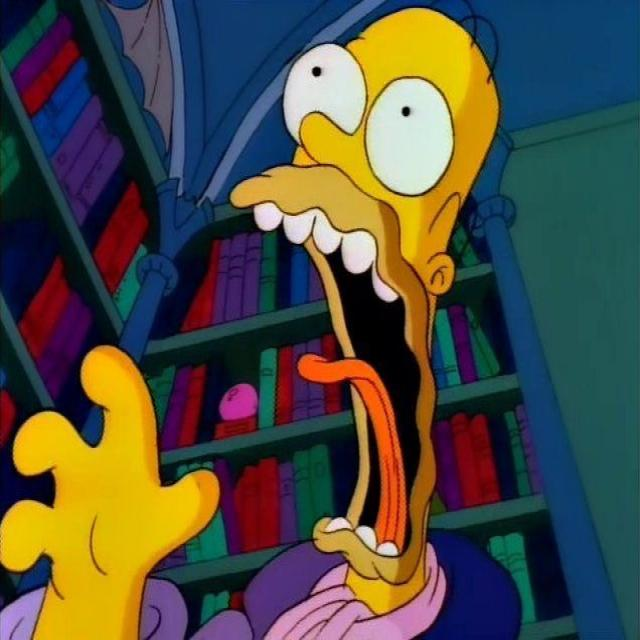Homer Simpson: (227, 0, 503, 621)
